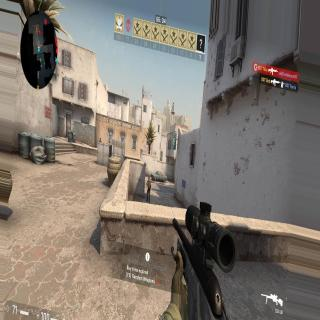T-Body: (146, 176, 151, 204), (99, 137, 102, 143)
T-Head: (148, 177, 150, 181), (100, 137, 102, 141)
